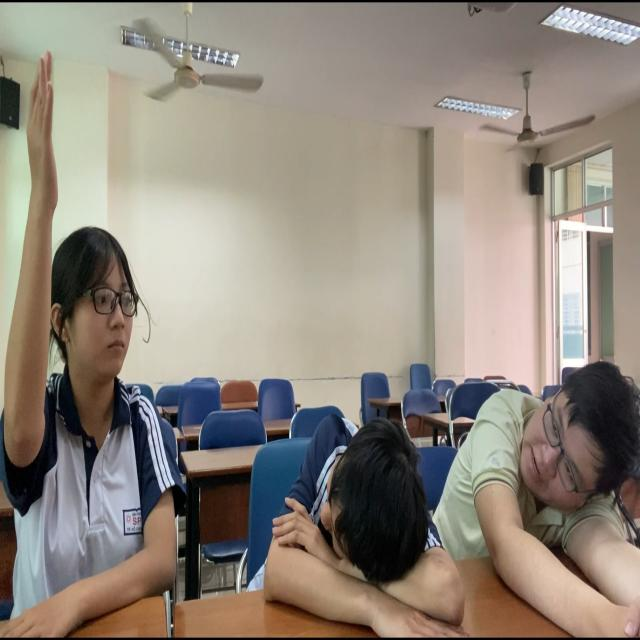raise_hand: (2, 49, 179, 640)
sleep: (465, 351, 640, 640), (260, 410, 468, 640)
